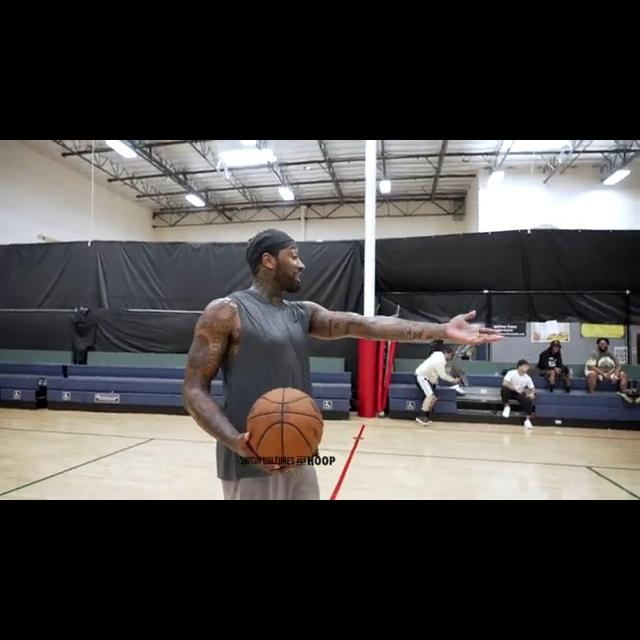basketball: (245, 386, 326, 470)
person: (179, 226, 504, 500), (414, 343, 462, 429), (498, 358, 539, 429), (583, 338, 630, 396), (537, 339, 573, 392)
